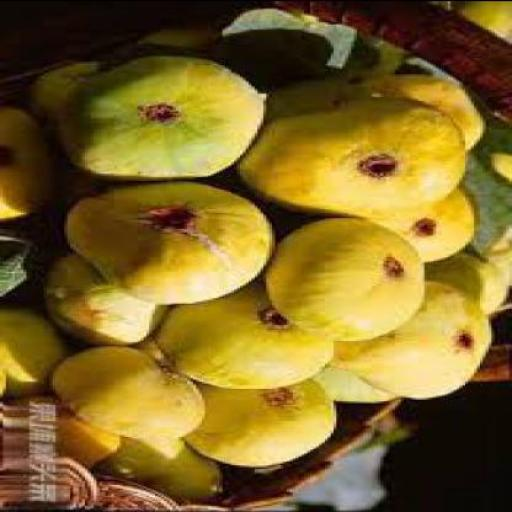biodegradable: (240, 98, 471, 216), (68, 178, 278, 301), (62, 53, 270, 176), (273, 212, 430, 336), (340, 277, 497, 396), (166, 279, 336, 384), (53, 342, 208, 435), (193, 377, 340, 464), (44, 249, 175, 343), (345, 70, 492, 150), (370, 183, 482, 260), (3, 302, 82, 397), (34, 58, 108, 154), (3, 106, 59, 218), (427, 243, 511, 310), (269, 76, 362, 121), (152, 444, 226, 500), (97, 434, 190, 478), (477, 150, 511, 249), (141, 21, 222, 50), (336, 366, 400, 401), (459, 1, 511, 32), (3, 356, 12, 398)
